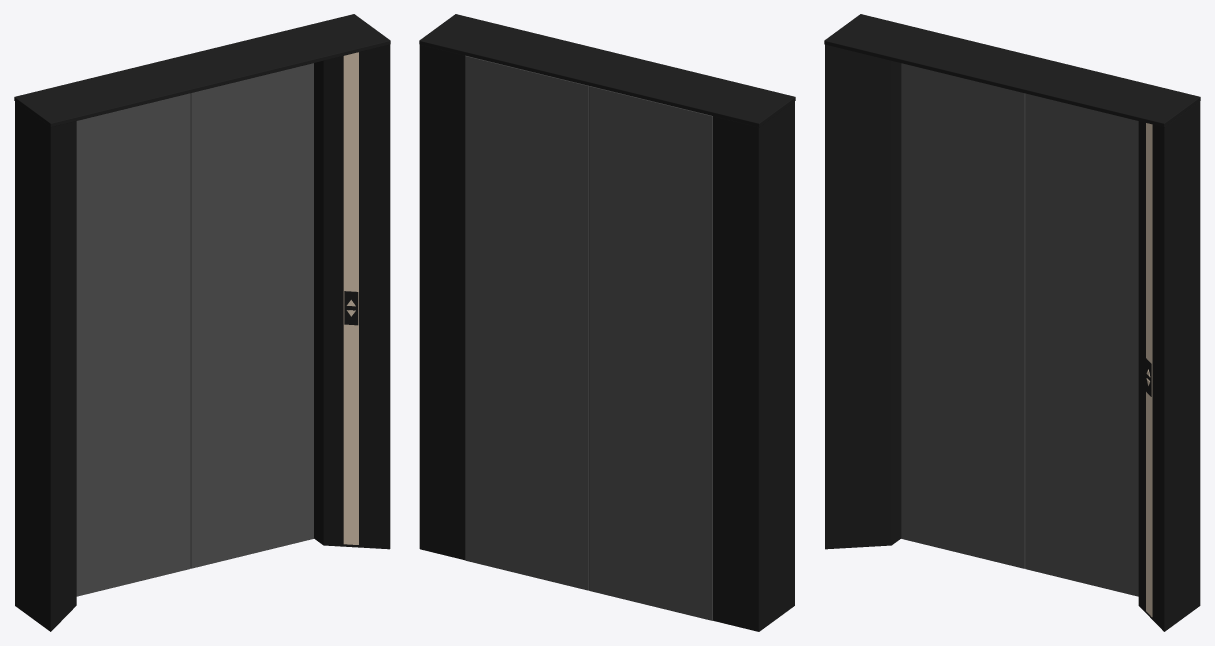
The model's file is elevator_door(lobby).fbx.
The picture shows the model from 3 angles, left to right: view 1: azimuth 30°, elevation 25°; view 2: azimuth 150°, elevation 25°; view 3: azimuth 330°, elevation 25°; orthographic projection.
Parts seen in each view (by area): view 1: JianE_model_2021316121147677, JianE_model_2021316121147678, JianE_model_2021316121147676, JianE_model_2021316121147676.001, JianE_model_2021316121147675.001, JianE_model_2021316121147680; view 2: JianE_model_2021316121147678, JianE_model_2021316121147677, JianE_model_2021316121147676, JianE_model_2021316121147676.001, JianE_model_2021316121147675.001; view 3: JianE_model_2021316121147678, JianE_model_2021316121147677, JianE_model_2021316121147676, JianE_model_2021316121147676.001, JianE_model_2021316121147675.001, JianE_model_2021316121147680.
Part boxes in pixels (<box>): JianE_model_2021316121147677: <box>190,63,313,568</box>; JianE_model_2021316121147678: <box>76,93,190,596</box>; JianE_model_2021316121147676: <box>15,101,76,631</box>; JianE_model_2021316121147676.001: <box>314,44,390,549</box>; JianE_model_2021316121147675.001: <box>14,14,390,127</box>; JianE_model_2021316121147680: <box>343,52,358,544</box>; JianE_model_2021316121147678: <box>589,86,712,620</box>; JianE_model_2021316121147677: <box>465,55,588,590</box>; JianE_model_2021316121147676: <box>713,101,794,631</box>; JianE_model_2021316121147676.001: <box>419,44,465,560</box>; JianE_model_2021316121147675.001: <box>419,14,795,127</box>; JianE_model_2021316121147678: <box>901,63,1025,568</box>; JianE_model_2021316121147677: <box>1025,93,1138,596</box>; JianE_model_2021316121147676: <box>825,44,901,549</box>; JianE_model_2021316121147676.001: <box>1138,101,1200,631</box>; JianE_model_2021316121147675.001: <box>824,14,1200,127</box>; JianE_model_2021316121147680: <box>1146,123,1152,616</box>.
Bounding box in the file's own units: 101 × 18.75 × 144.
